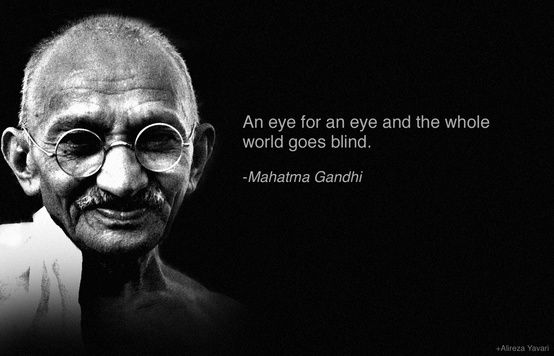latin: (240, 114, 491, 153), (248, 169, 365, 185)
